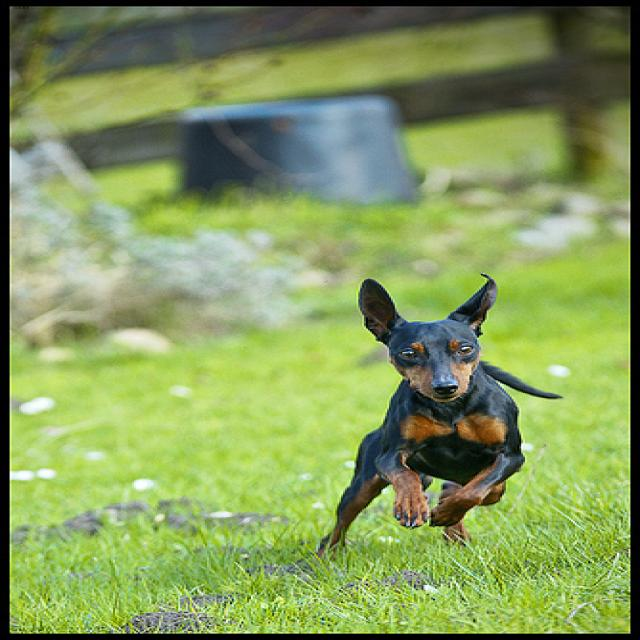dog-miniature_pinscher: (307, 268, 583, 561)
